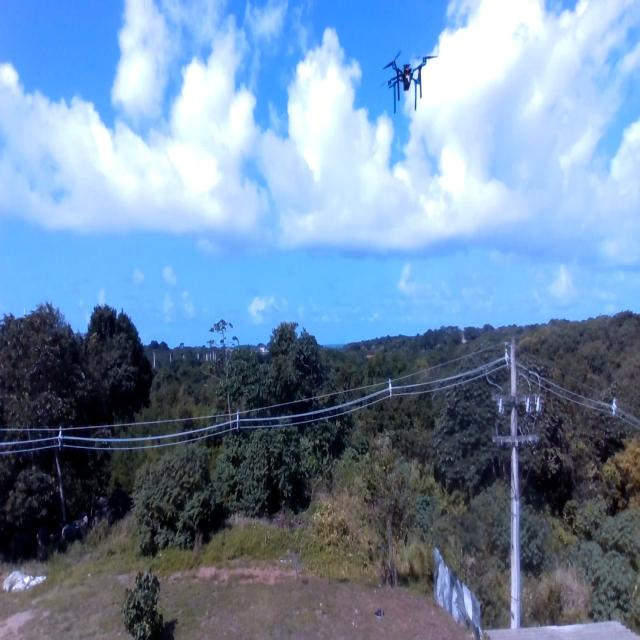-uav-: (378, 38, 440, 122)
